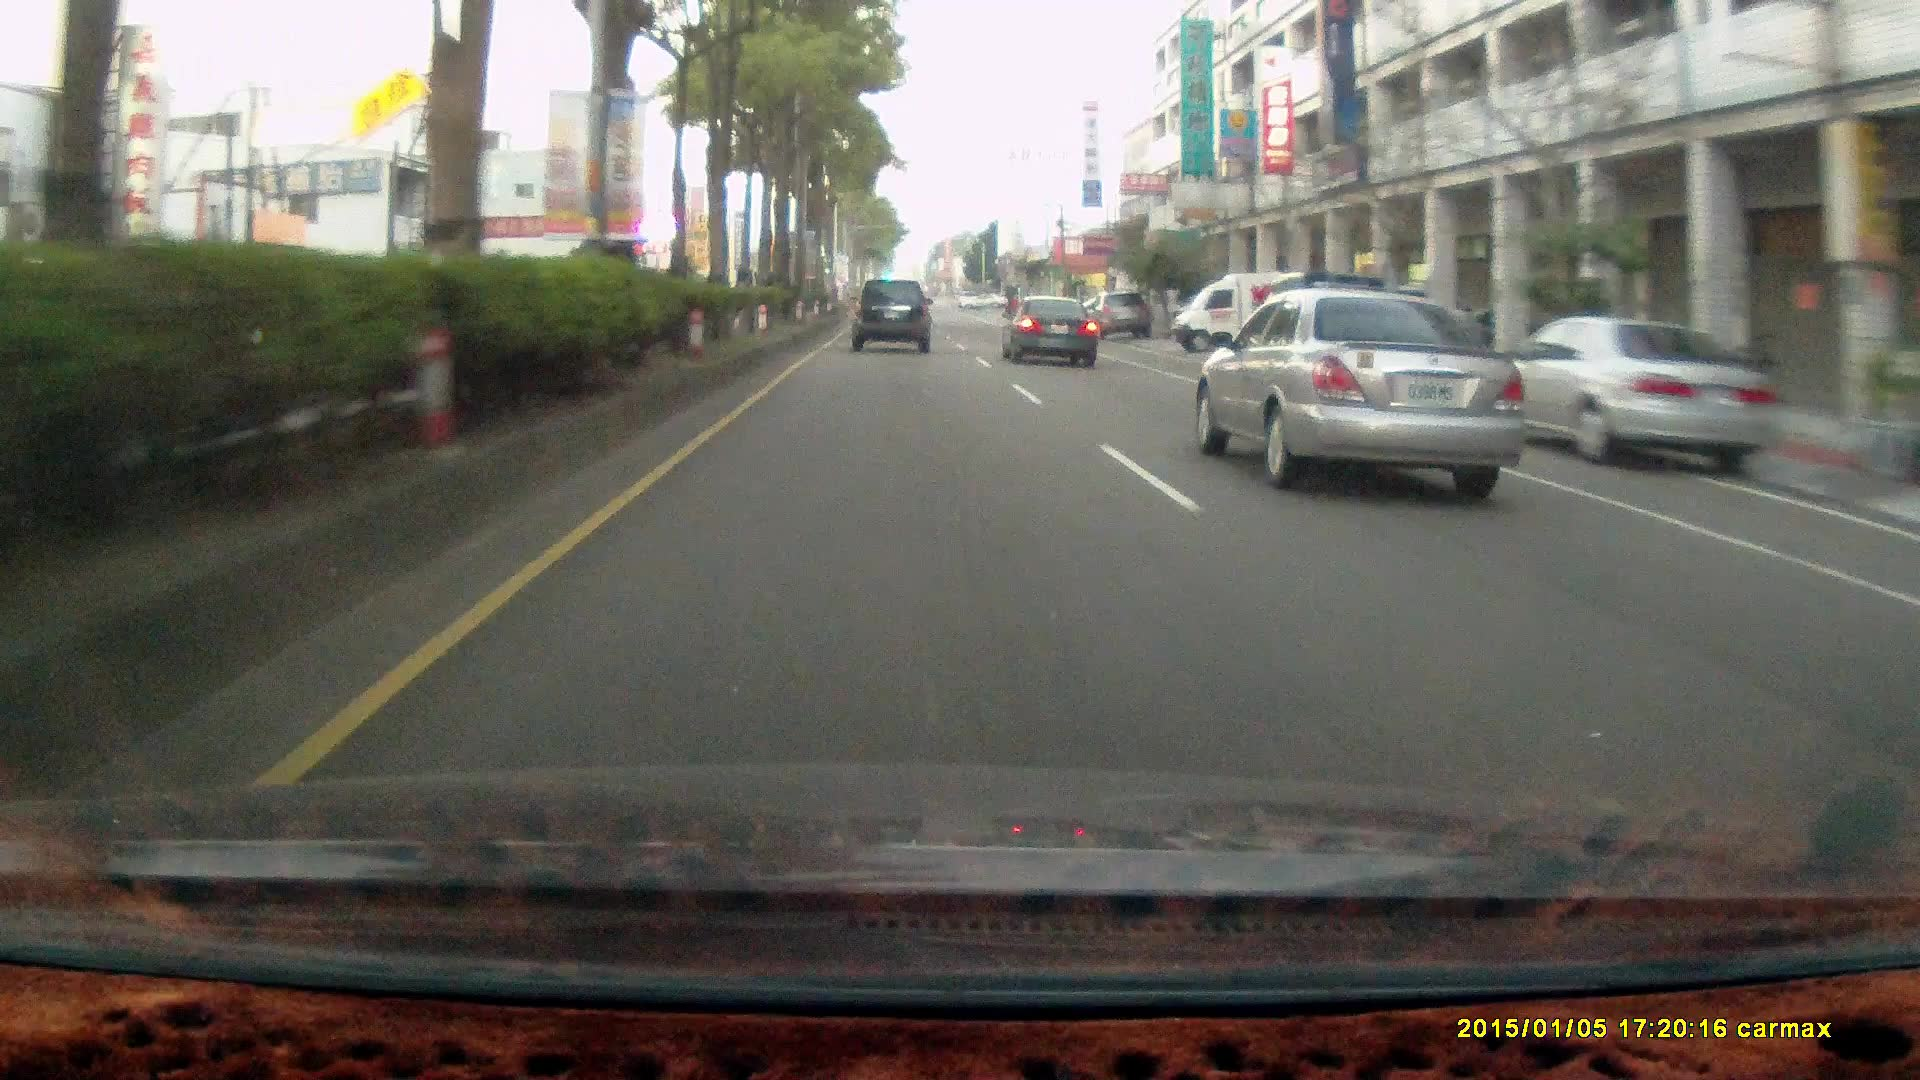vehicle: (1195, 287, 1524, 487), (1481, 313, 1782, 472), (1486, 316, 1764, 473), (1290, 270, 1466, 411), (1166, 269, 1332, 357), (998, 291, 1102, 368), (1001, 294, 1096, 368), (851, 278, 935, 356), (852, 276, 932, 349), (1081, 291, 1149, 342), (1084, 287, 1150, 335)
